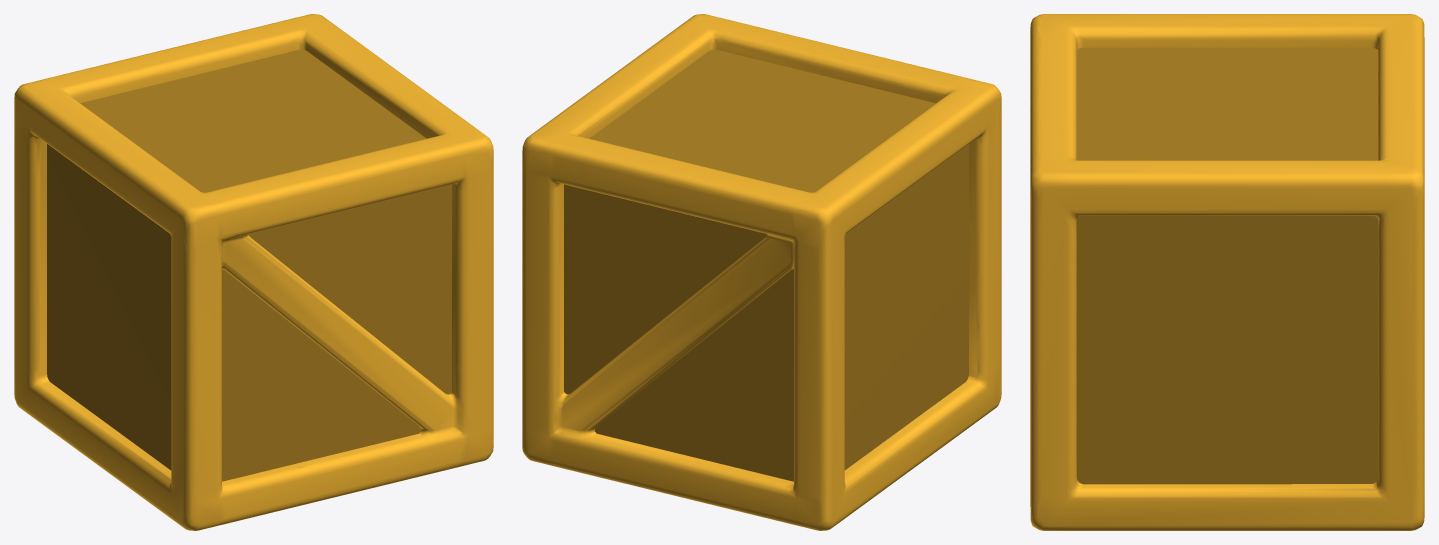
File: crate.glb
3 renders of one model, left to right at view 1: azimuth 30°, elevation 25°; view 2: azimuth 150°, elevation 25°; view 3: azimuth 270°, elevation 25°, orthographic. The views are drawn at different scales.
Parts seen in each view (by area): view 1: Brace, Body; view 2: Brace, Body; view 3: Body, Brace.
Part boxes in pixels (x1,y1,x2,y2): Brace: (14,14,493,530); Body: (47,49,451,481); Brace: (522,14,1001,530); Body: (564,49,968,481); Body: (1076,47,1378,484); Brace: (1030,14,1424,530).
Bounding box in the file's own units: 0.51 × 0.51 × 0.51.
